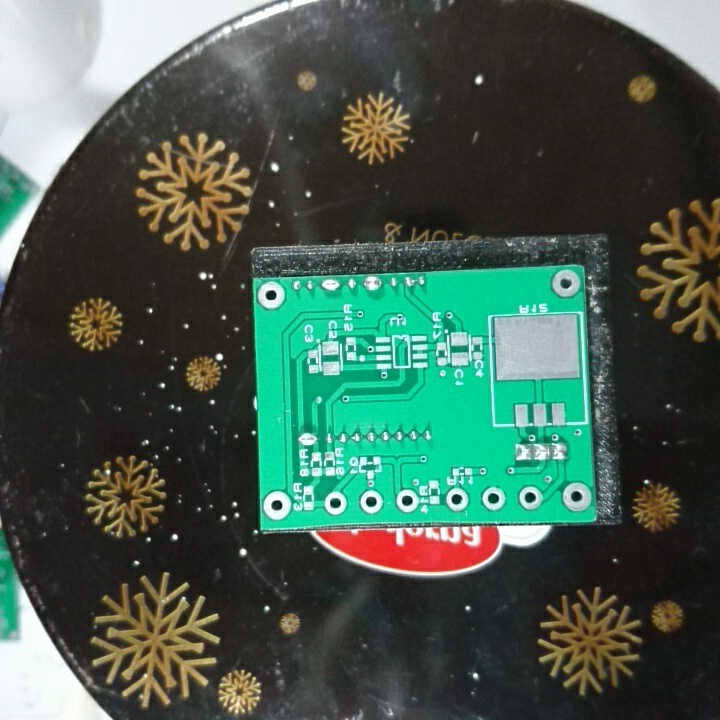F: (254, 278, 288, 312), (559, 480, 593, 513), (548, 268, 581, 300), (262, 489, 292, 521), (477, 483, 507, 514), (443, 486, 472, 515), (322, 489, 349, 518), (394, 486, 420, 516), (517, 485, 545, 512), (357, 489, 385, 515)
P: (297, 430, 320, 449), (362, 274, 385, 292), (319, 278, 342, 292)
